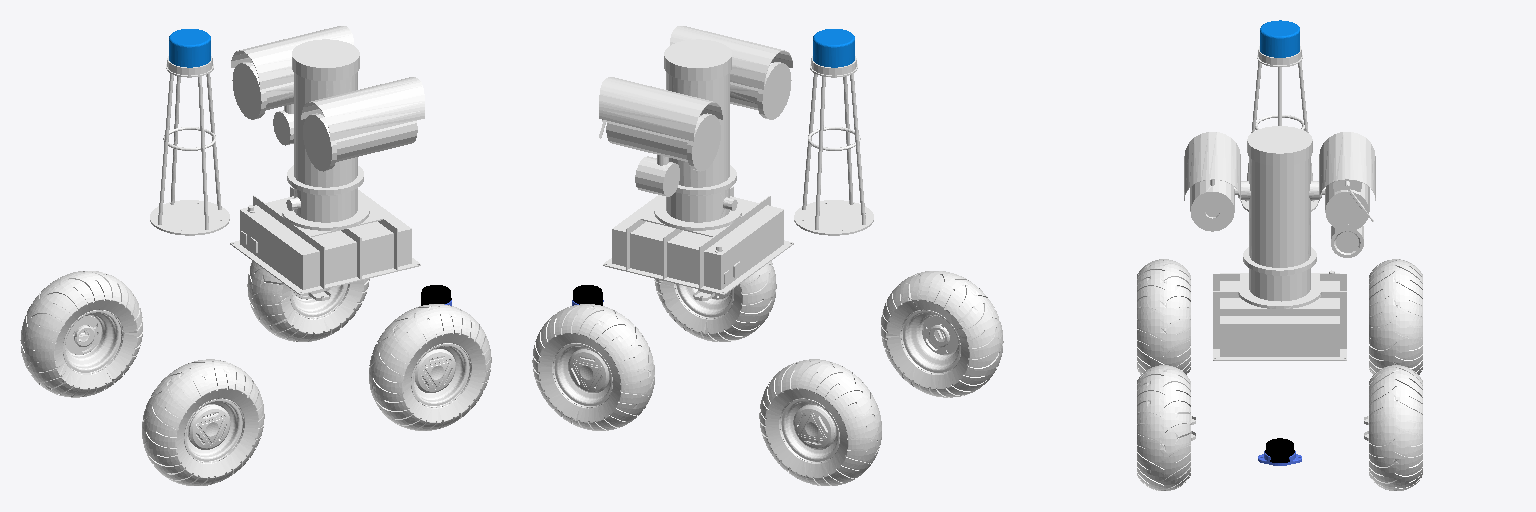
URDF robot description (robot_description):
<?xml version="1.0" encoding="utf-8"?>
<!-- This URDF was automatically created by SolidWorks to URDF Exporter! Originally created by [author] ([email redacted]) 
     Commit Version: 1.6.0-1-g15f4949  Build Version: 1.6.7594.29634
     For more information, please see http://wiki.ros.org/sw_urdf_exporter -->
<robot
  name="robot_description">
  <link name="base_footprint">
  </link>
    <joint name="base_link_joint" type="fixed">
      <origin xyz="0 0 0.34" rpy="0 0 0" />
    <parent link="base_footprint"/>
    <child link="base_link" />
  </joint>
  <link
    name="base_link">
    <inertial>
      <origin
        xyz="-0.15914 -9.5967E-05 0.10539"
        rpy="0 0 0" />
      <mass
        value="12.06" />
      <inertia
        ixx="0.10838"
        ixy="0.0001198"
        ixz="-0.0012052"
        iyy="0.25068"
        iyz="0.00021772"
        izz="0.32193" />
    </inertial>
    <visual>
      <origin
        xyz="0 0 0"
        rpy="0 0 0" />
      <geometry>
        <mesh
          filename="package://robot_description/meshes/base_link.STL" />
      </geometry>
      <material
        name="">
        <color
          rgba="0.75294 0.75294 0.75294 1" />
      </material>
    </visual>
    <collision>
      <origin
        xyz="0 0 0"
        rpy="0 0 0" />
      <geometry>
        <mesh
          filename="package://robot_description/meshes/base_link.STL" />
      </geometry>
    </collision>
  </link>
  <link
    name="fl_yaw_link">
    <inertial>
      <origin
        xyz="-0.27952 0.23806 0.44611"
        rpy="0 0 0" />
      <mass
        value="30.507" />
      <inertia
        ixx="1.6554"
        ixy="-0.02242"
        ixz="-0.47837"
        iyy="2.9139"
        iyz="-0.021024"
        izz="2.3338" />
    </inertial>
    <visual>
      <origin
        xyz="0 0 0"
        rpy="0 0 0" />
      <geometry>
        <mesh
          filename="package://robot_description/meshes/fl_yaw_link.STL" />
      </geometry>
      <material
        name="">
        <color
          rgba="1 1 1 1" />
      </material>
    </visual>
    <collision>
      <origin
        xyz="0 0 0"
        rpy="0 0 0" />
      <geometry>
        <mesh
          filename="package://robot_description/meshes/fl_yaw_link.STL" />
      </geometry>
    </collision>
  </link>
  <joint
    name="fl_yaw_joint"
    type="revolute">
    <origin
      xyz="0.3205 -0.234 -0.1754"
      rpy="0 0 0" />
    <parent
      link="base_link" />
    <child
      link="fl_yaw_link" />
    <axis
      xyz="0 0 -1" />
    <limit
      lower="-0.516"
      upper="0.516"
      effort="0"
      velocity="0" />
  </joint>
  <link
    name="fl_wheel_link">
    <inertial>
      <origin
        xyz="-0.27952 0.28606 0.44611"
        rpy="0 0 0" />
      <mass
        value="30.507" />
      <inertia
        ixx="1.6554"
        ixy="-0.02242"
        ixz="-0.47837"
        iyy="2.9139"
        iyz="-0.021024"
        izz="2.3338" />
    </inertial>
    <visual>
      <origin
        xyz="0 0 0"
        rpy="0 0 0" />
      <geometry>
        <mesh
          filename="package://robot_description/meshes/fl_wheel_link.STL" />
      </geometry>
      <material
        name="">
        <color
          rgba="1 1 1 1" />
      </material>
    </visual>
    <collision>
      <origin
        xyz="0 0 0"
        rpy="0 0 0" />
      <geometry>
        <mesh
          filename="package://robot_description/meshes/fl_wheel_link.STL" />
      </geometry>
    </collision>
  </link>
  <joint
    name="fl_wheel_joint"
    type="continuous">
    <origin
      xyz="0 -0.048 0"
      rpy="0 0 0" />
    <parent
      link="fl_yaw_link" />
    <child
      link="fl_wheel_link" />
    <axis
      xyz="0 1 0" />
  </joint>
  <link
    name="fr_yaw_link">
    <inertial>
      <origin
        xyz="-0.279521156342373 -0.229938561780429 0.44610688424323"
        rpy="0 0 0" />
      <mass
        value="30.5066266511579" />
      <inertia
        ixx="1.65541542845514"
        ixy="-0.0224203982987276"
        ixz="-0.478365539826021"
        iyy="2.91389154857164"
        iyz="-0.0210240992622669"
        izz="2.33380384946737" />
    </inertial>
    <visual>
      <origin
        xyz="0 0 0"
        rpy="0 0 0" />
      <geometry>
        <mesh
          filename="package://robot_description/meshes/fr_yaw_link.STL" />
      </geometry>
      <material
        name="">
        <color
          rgba="1 1 1 1" />
      </material>
    </visual>
    <collision>
      <origin
        xyz="0 0 0"
        rpy="0 0 0" />
      <geometry>
        <mesh
          filename="package://robot_description/meshes/fr_yaw_link.STL" />
      </geometry>
    </collision>
  </link>
  <joint
    name="fr_yaw_joint"
    type="revolute">
    <origin
      xyz="0.3205 0.234 -0.1754"
      rpy="0 0 0" />
    <parent
      link="base_link" />
    <child
      link="fr_yaw_link" />
    <axis
      xyz="0 0 1" />
    <limit
      lower="-0.516"
      upper="0.516"
      effort="0"
      velocity="0" />
  </joint>
  <link
    name="fr_wheel_link">
    <inertial>
      <origin
        xyz="-0.27952115634236 -0.277938561780588 0.446106884243232"
        rpy="0 0 0" />
      <mass
        value="30.5066266511579" />
      <inertia
        ixx="1.65541542845513"
        ixy="-0.0224203982987281"
        ixz="-0.478365539826021"
        iyy="2.91389154857164"
        iyz="-0.0210240992622671"
        izz="2.33380384946737" />
    </inertial>
    <visual>
      <origin
        xyz="0 0 0"
        rpy="0 0 0" />
      <geometry>
        <mesh
          filename="package://robot_description/meshes/fr_wheel_link.STL" />
      </geometry>
      <material
        name="">
        <color
          rgba="1 1 1 1" />
      </material>
    </visual>
    <collision>
      <origin
        xyz="0 0 0"
        rpy="0 0 0" />
      <geometry>
        <mesh
          filename="package://robot_description/meshes/fr_wheel_link.STL" />
      </geometry>
    </collision>
  </link>
  <joint
    name="fr_wheel_joint"
    type="continuous">
    <origin
      xyz="0 0.048 0"
      rpy="0 0 0" />
    <parent
      link="fr_yaw_link" />
    <child
      link="fr_wheel_link" />
    <axis
      xyz="0 -1 0" />
  </joint>
  <link
    name="bl_wheel_link">
    <inertial>
      <origin
        xyz="0.371988324955183 0.286061438219423 0.446274637839659"
        rpy="0 0 0" />
      <mass
        value="30.5066266511579" />
      <inertia
        ixx="1.65541542845513"
        ixy="-0.0224203982987291"
        ixz="-0.478365539826021"
        iyy="2.91389154857164"
        iyz="-0.0210240992622676"
        izz="2.33380384946737" />
    </inertial>
    <visual>
      <origin
        xyz="0 0 0"
        rpy="0 0 0" />
      <geometry>
        <mesh
          filename="package://robot_description/meshes/bl_wheel_link.STL" />
      </geometry>
      <material
        name="">
        <color
          rgba="1 1 1 1" />
      </material>
    </visual>
    <collision>
      <origin
        xyz="0 0 0"
        rpy="0 0 0" />
      <geometry>
        <mesh
          filename="package://robot_description/meshes/bl_wheel_link.STL" />
      </geometry>
    </collision>
  </link>
  <joint
    name="bl_wheel_joint"
    type="continuous">
    <origin
      xyz="-0.33101 -0.282 -0.17557"
      rpy="0 0 0" />
    <parent
      link="base_link" />
    <child
      link="bl_wheel_link" />
    <axis
      xyz="0 1 0" />
  </joint>
  <link
    name="br_wheel_link">
    <inertial>
      <origin
        xyz="0.371978843657749 -0.277938561780588 0.446206884243225"
        rpy="0 0 0" />
      <mass
        value="30.5066266511579" />
      <inertia
        ixx="1.65541542845513"
        ixy="-0.0224203982987279"
        ixz="-0.478365539826018"
        iyy="2.91389154857164"
        iyz="-0.021024099262267"
        izz="2.33380384946738" />
    </inertial>
    <visual>
      <origin
        xyz="0 0 0"
        rpy="0 0 0" />
      <geometry>
        <mesh
          filename="package://robot_description/meshes/br_wheel_link.STL" />
      </geometry>
      <material
        name="">
        <color
          rgba="1 1 1 1" />
      </material>
    </visual>
    <collision>
      <origin
        xyz="0 0 0"
        rpy="0 0 0" />
      <geometry>
        <mesh
          filename="package://robot_description/meshes/br_wheel_link.STL" />
      </geometry>
    </collision>
  </link>
  <joint
    name="br_wheel_joint"
    type="continuous">
    <origin
      xyz="-0.331 0.282 -0.1755"
      rpy="0 0 0" />
    <parent
      link="base_link" />
    <child
      link="br_wheel_link" />
    <axis
      xyz="0 -1 0" />
  </joint>
  <link
    name="cloud_base_link">
    <inertial>
      <origin
        xyz="-0.00107056668814468 0.000355883793422292 0.0294178572049006"
        rpy="0 0 0" />
      <mass
        value="2.79967245417279" />
      <inertia
        ixx="0.0218041333220011"
        ixy="0.000149445024526007"
        ixz="-5.4588855827757E-05"
        iyy="0.0212664972862997"
        iyz="7.12806969594676E-05"
        izz="0.0292577352544243" />
    </inertial>
    <visual>
      <origin
        xyz="0 0 0"
        rpy="0 0 0" />
      <geometry>
        <mesh
          filename="package://robot_description/meshes/cloud_base_link.STL" />
      </geometry>
      <material
        name="">
        <color
          rgba="1 1 1 1" />
      </material>
    </visual>
    <collision>
      <origin
        xyz="0 0 0"
        rpy="0 0 0" />
      <geometry>
        <mesh
          filename="package://robot_description/meshes/cloud_base_link.STL" />
      </geometry>
    </collision>
  </link>
  <joint
    name="cloud_base_joint"
    type="fixed">
    <origin
      xyz="0.195 0 0.139"
      rpy="0 0 0" />
    <parent
      link="base_link" />
    <child
      link="cloud_base_link" />
    <axis
      xyz="0 0 0" />
  </joint>
  <link
    name="cloud_yaw_link">
    <inertial>
      <origin
        xyz="3.82843478863304E-08 2.98602090883249E-06 -0.00102621290249716"
        rpy="0 0 0" />
      <mass
        value="7.2831368849384" />
      <inertia
        ixx="0.0910347461613076"
        ixy="-1.06880079285815E-08"
        ixz="-7.73754816038974E-09"
        iyy="0.0905154171805842"
        iyz="-6.87608760454308E-07"
        izz="0.0248026922778621" />
    </inertial>
    <visual>
      <origin
        xyz="0 0 0"
        rpy="0 0 0" />
      <geometry>
        <mesh
          filename="package://robot_description/meshes/cloud_yaw_link.STL" />
      </geometry>
      <material
        name="">
        <color
          rgba="1 1 1 1" />
      </material>
    </visual>
    <collision>
      <origin
        xyz="0 0 0"
        rpy="0 0 0" />
      <geometry>
        <mesh
          filename="package://robot_description/meshes/cloud_yaw_link.STL" />
      </geometry>
    </collision>
  </link>
  <joint
    name="cloud_yaw_joint"
    type="continuous">
    <origin
      xyz="0 0 0.278"
      rpy="0 0 0" />
    <parent
      link="cloud_base_link" />
    <child
      link="cloud_yaw_link" />
    <axis
      xyz="0 0 1" />
    <limit
      lower="-3.1415926535"
      upper="3.1415926535"
      effort="0"
      velocity="0" />
  </joint>
  <link
    name="cloud_pitch_link">
    <inertial>
      <origin
        xyz="0.00250575362899488 0.0192527925750246 -0.00483033515548448"
        rpy="0 0 0" />
      <mass
        value="6.44269178931367" />
      <inertia
        ixx="0.211461209470067"
        ixy="-0.00402266404388985"
        ixz="-0.00067904988645607"
        iyy="0.0483449961927441"
        iyz="0.00701921938246433"
        izz="0.230859876365758" />
    </inertial>
    <visual>
      <origin
        xyz="0 0 0"
        rpy="0 0 0" />
      <geometry>
        <mesh
          filename="package://robot_description/meshes/cloud_pitch_link.STL" />
      </geometry>
      <material
        name="">
        <color
          rgba="1 1 1 1" />
      </material>
    </visual>
    <collision>
      <origin
        xyz="0 0 0"
        rpy="0 0 0" />
      <geometry>
        <mesh
          filename="package://robot_description/meshes/cloud_pitch_link.STL" />
      </geometry>
    </collision>
  </link>
  <joint
    name="cloud_pitch_joint"
    type="revolute">
    <origin
      xyz="0 0 0.0305"
      rpy="0 0 0" />
    <parent
      link="cloud_yaw_link" />
    <child
      link="cloud_pitch_link" />
    <axis
      xyz="0 1 0" />
    <limit
      lower="-1.570796"
      upper="1.570796"
      effort="0"
      velocity="0" />
  </joint>
  <link
    name="laser_base_link">
    <inertial>
      <origin
        xyz="2.23091641826656E-08 1.20787168066745E-06 0.00529776059381226"
        rpy="0 0 0" />
      <mass
        value="0.052040899906715" />
      <inertia
        ixx="4.37341983251945E-05"
        ixy="-3.14276320789944E-11"
        ixz="1.3813453733048E-11"
        iyy="1.73099215842761E-05"
        iyz="-4.77286692727187E-11"
        izz="5.90231425644455E-05" />
    </inertial>
    <visual>
      <origin
        xyz="0 0 0"
        rpy="0 0 0" />
      <geometry>
        <mesh
          filename="package://robot_description/meshes/laser_base_link.STL" />
      </geometry>
      <material
        name="">
        <color
          rgba="0.380392156862745 0.525490196078431 1 1" />
      </material>
    </visual>
    <collision>
      <origin
        xyz="0 0 0"
        rpy="0 0 0" />
      <geometry>
        <mesh
          filename="package://robot_description/meshes/laser_base_link.STL" />
      </geometry>
    </collision>
  </link>
  <joint
    name="laser_base_joint"
    type="fixed">
    <origin
      xyz="0.512 0 -0.177"
      rpy="0 0 0" />
    <parent
      link="base_link" />
    <child
      link="laser_base_link" />
    <axis
      xyz="0 0 0" />
  </joint>
  <link
    name="laser_link">
    <inertial>
      <origin
        xyz="0 5.01675115346061E-19 0.0188690531467447"
        rpy="0 0 0" />
      <mass
        value="0.168315967042029" />
      <inertia
        ixx="7.91781165894466E-05"
        ixy="-2.84343335565089E-22"
        ixz="1.0929502709567E-20"
        iyy="7.91781165894466E-05"
        iyz="4.20303190579889E-22"
        izz="0.000117542170683099" />
    </inertial>
    <visual>
      <origin
        xyz="0 0 0"
        rpy="0 0 0" />
      <geometry>
        <mesh
          filename="package://robot_description/meshes/laser_link.STL" />
      </geometry>
      <material
        name="">
        <color
          rgba="0 0 0 1" />
      </material>
    </visual>
    <collision>
      <origin
        xyz="0 0 0"
        rpy="0 0 0" />
      <geometry>
        <mesh
          filename="package://robot_description/meshes/laser_link.STL" />
      </geometry>
    </collision>
  </link>
  <joint
    name="laser_joint"
    type="fixed">
    <origin
      xyz="0 0 0.008"
      rpy="0 0 0" />
    <parent
      link="laser_base_link" />
    <child
      link="laser_link" />
    <axis
      xyz="0 0 0" />
  </joint>
  <link
    name="valodyne_base_link">
    <inertial>
      <origin
        xyz="-0.000127176303653165 2.31859873638434E-07 -0.0449383971949976"
        rpy="0 0 0" />
      <mass
        value="0.376994643906441" />
      <inertia
        ixx="0.0118542542856136"
        ixy="3.70901498526542E-10"
        ixz="2.18083625889328E-06"
        iyy="0.0118542554278508"
        iyz="-1.07060477987536E-08"
        izz="0.00163430081592151" />
    </inertial>
    <visual>
      <origin
        xyz="0 0 0"
        rpy="0 0 0" />
      <geometry>
        <mesh
          filename="package://robot_description/meshes/valodyne_base_link.STL" />
      </geometry>
      <material
        name="">
        <color
          rgba="1 1 1 1" />
      </material>
    </visual>
    <collision>
      <origin
        xyz="0 0 0"
        rpy="0 0 0" />
      <geometry>
        <mesh
          filename="package://robot_description/meshes/valodyne_base_link.STL" />
      </geometry>
    </collision>
  </link>
  <joint
    name="valodyne_base_joint"
    type="fixed">
    <origin
      xyz="-0.195 0 0.441"
      rpy="0 0 0" />
    <parent
      link="base_link" />
    <child
      link="valodyne_base_link" />
    <axis
      xyz="0 0 0" />
  </joint>
  <link
    name="valodyne_link">
    <inertial>
      <origin
        xyz="0 -1.35321723598849E-19 0.0399025566772944"
        rpy="0 0 0" />
      <mass
        value="0.69098907548352" />
      <inertia
        ixx="0.00084186513081361"
        ixy="-7.34095220953727E-21"
        ixz="1.70617759083443E-20"
        iyy="0.00084186513081361"
        iyz="-1.04039849302502E-21"
        izz="0.000950078684047923" />
    </inertial>
    <visual>
      <origin
        xyz="0 0 0"
        rpy="0 0 0" />
      <geometry>
        <mesh
          filename="package://robot_description/meshes/valodyne_link.STL" />
      </geometry>
      <material
        name="">
        <color
          rgba="0.0823529411764706 0.6 1 1" />
      </material>
    </visual>
    <collision>
      <origin
        xyz="0 0 0"
        rpy="0 0 0" />
      <geometry>
        <mesh
          filename="package://robot_description/meshes/valodyne_link.STL" />
      </geometry>
    </collision>
  </link>
  <joint
    name="valodyne_joint"
    type="continuous">
    <origin
      xyz="0 0 0.209"
      rpy="0 0 0" />
    <parent
      link="valodyne_base_link" />
    <child
      link="valodyne_link" />
    <axis
      xyz="0 0 1" />
  </joint>
</robot>

--- What the picture shows (computed from the rendered views, not written in the file) ---
3 views of the same robot in one strip: view 1: azimuth 30°, elevation 25°; view 2: azimuth 150°, elevation 25°; view 3: azimuth 270°, elevation 25° (orthographic).
Model robot_description with 15 links and 14 joints (3 revolute, 6 continuous, 5 fixed), rooted at base_footprint, posed all joints at 0.
Links seen in each view (by area): view 1: cloud_base_link, cloud_pitch_link, fl_wheel_link, bl_wheel_link, br_wheel_link, cloud_yaw_link, fr_wheel_link, valodyne_base_link, valodyne_link, laser_link; view 2: cloud_pitch_link, cloud_base_link, br_wheel_link, fr_wheel_link, bl_wheel_link, cloud_yaw_link, fl_wheel_link, valodyne_base_link, valodyne_link, laser_link; view 3: cloud_base_link, cloud_pitch_link, cloud_yaw_link, fl_wheel_link, fr_wheel_link, bl_wheel_link, br_wheel_link, valodyne_base_link, valodyne_link, laser_link.
Boxes of the visible links, box(x1,y1,x2,y2) form: cloud_base_link: box(230, 186, 420, 294); cloud_pitch_link: box(231, 26, 424, 171); fl_wheel_link: box(369, 304, 491, 430); bl_wheel_link: box(142, 359, 264, 485); br_wheel_link: box(20, 271, 142, 397); cloud_yaw_link: box(287, 39, 363, 195); fr_wheel_link: box(247, 261, 369, 341); valodyne_base_link: box(150, 56, 229, 235); valodyne_link: box(169, 29, 210, 67); laser_link: box(421, 285, 451, 305); cloud_pitch_link: box(599, 26, 792, 196); cloud_base_link: box(603, 186, 793, 294); br_wheel_link: box(759, 359, 881, 485); fr_wheel_link: box(532, 304, 654, 430); bl_wheel_link: box(881, 271, 1003, 397); cloud_yaw_link: box(664, 39, 736, 195); fl_wheel_link: box(654, 261, 776, 341); valodyne_base_link: box(794, 56, 873, 235); valodyne_link: box(813, 29, 854, 67); laser_link: box(573, 285, 602, 305); cloud_base_link: box(1213, 268, 1346, 360); cloud_pitch_link: box(1184, 132, 1375, 257); cloud_yaw_link: box(1238, 126, 1321, 275); fl_wheel_link: box(1137, 365, 1190, 490); fr_wheel_link: box(1369, 365, 1422, 490); bl_wheel_link: box(1137, 259, 1190, 374); br_wheel_link: box(1369, 259, 1422, 374); valodyne_base_link: box(1241, 46, 1318, 211); valodyne_link: box(1260, 20, 1299, 57); laser_link: box(1265, 438, 1294, 462).
Bounding box of the posed robot: 1.05 × 0.7446 × 1.07 m (x, y, z).
13 mesh visuals loaded from 14 distinct referenced files (13 binary STL); not drawn: 1 (reference not matched to a file when rendering).